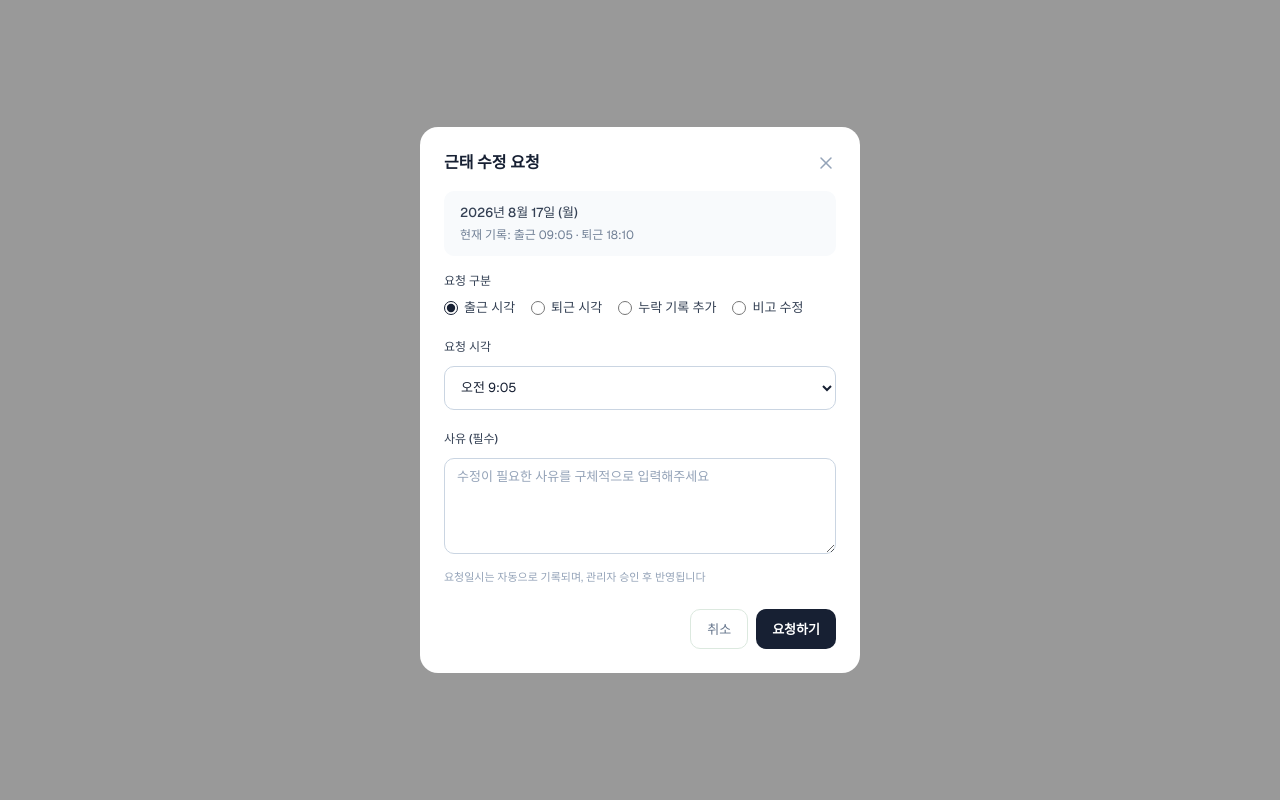
Test case: AttendanceCreateEditRequestModal › 요청 구분을 누락 기록 추가로 바꾸면 출근/퇴근 시간 select 두 개가 나타난다
Step 1. Click the radio button labelled "누락 기록 추가" → (625, 308), box x1=618 y1=301 x2=632 y2=315
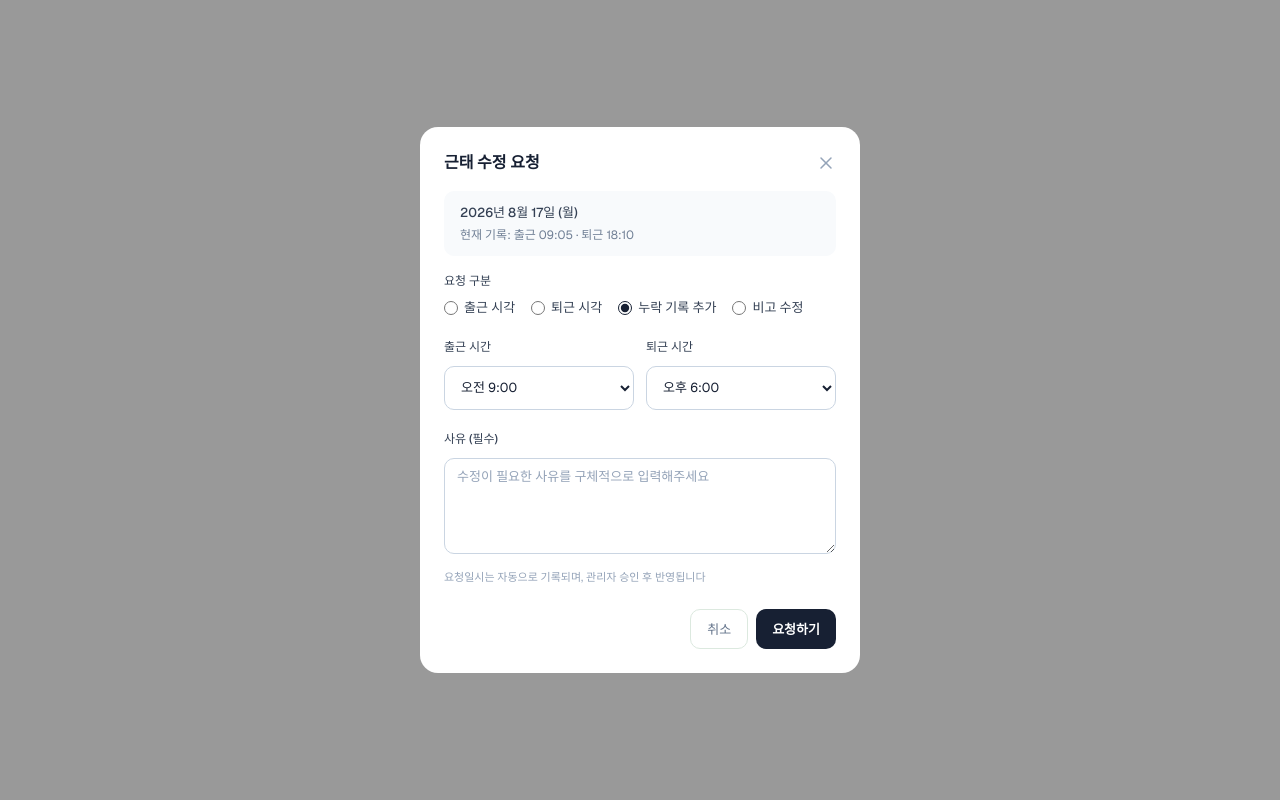
expect the dropdown labelled "출근 시간" is shown: met, box x1=444 y1=366 x2=634 y2=410
expect the dropdown labelled "퇴근 시간" is shown: met, box x1=646 y1=366 x2=836 y2=410
expect the label labelled "요청 시각" is gone: met
